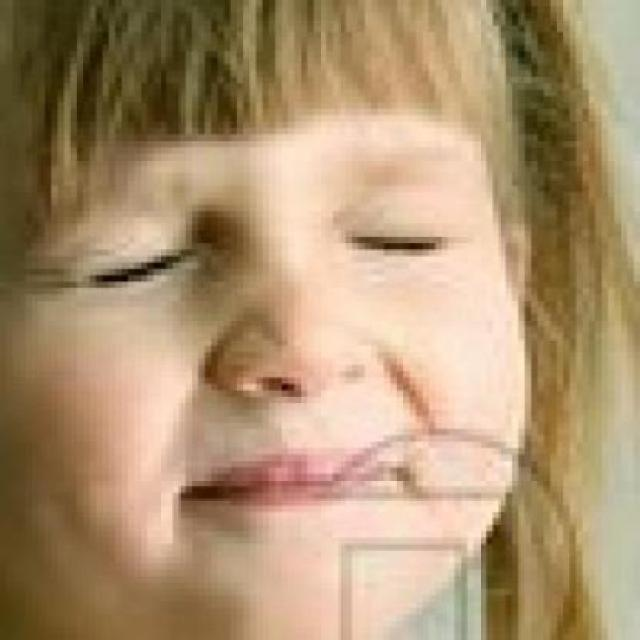drowsy: (352, 211, 452, 274), (83, 243, 195, 297)
